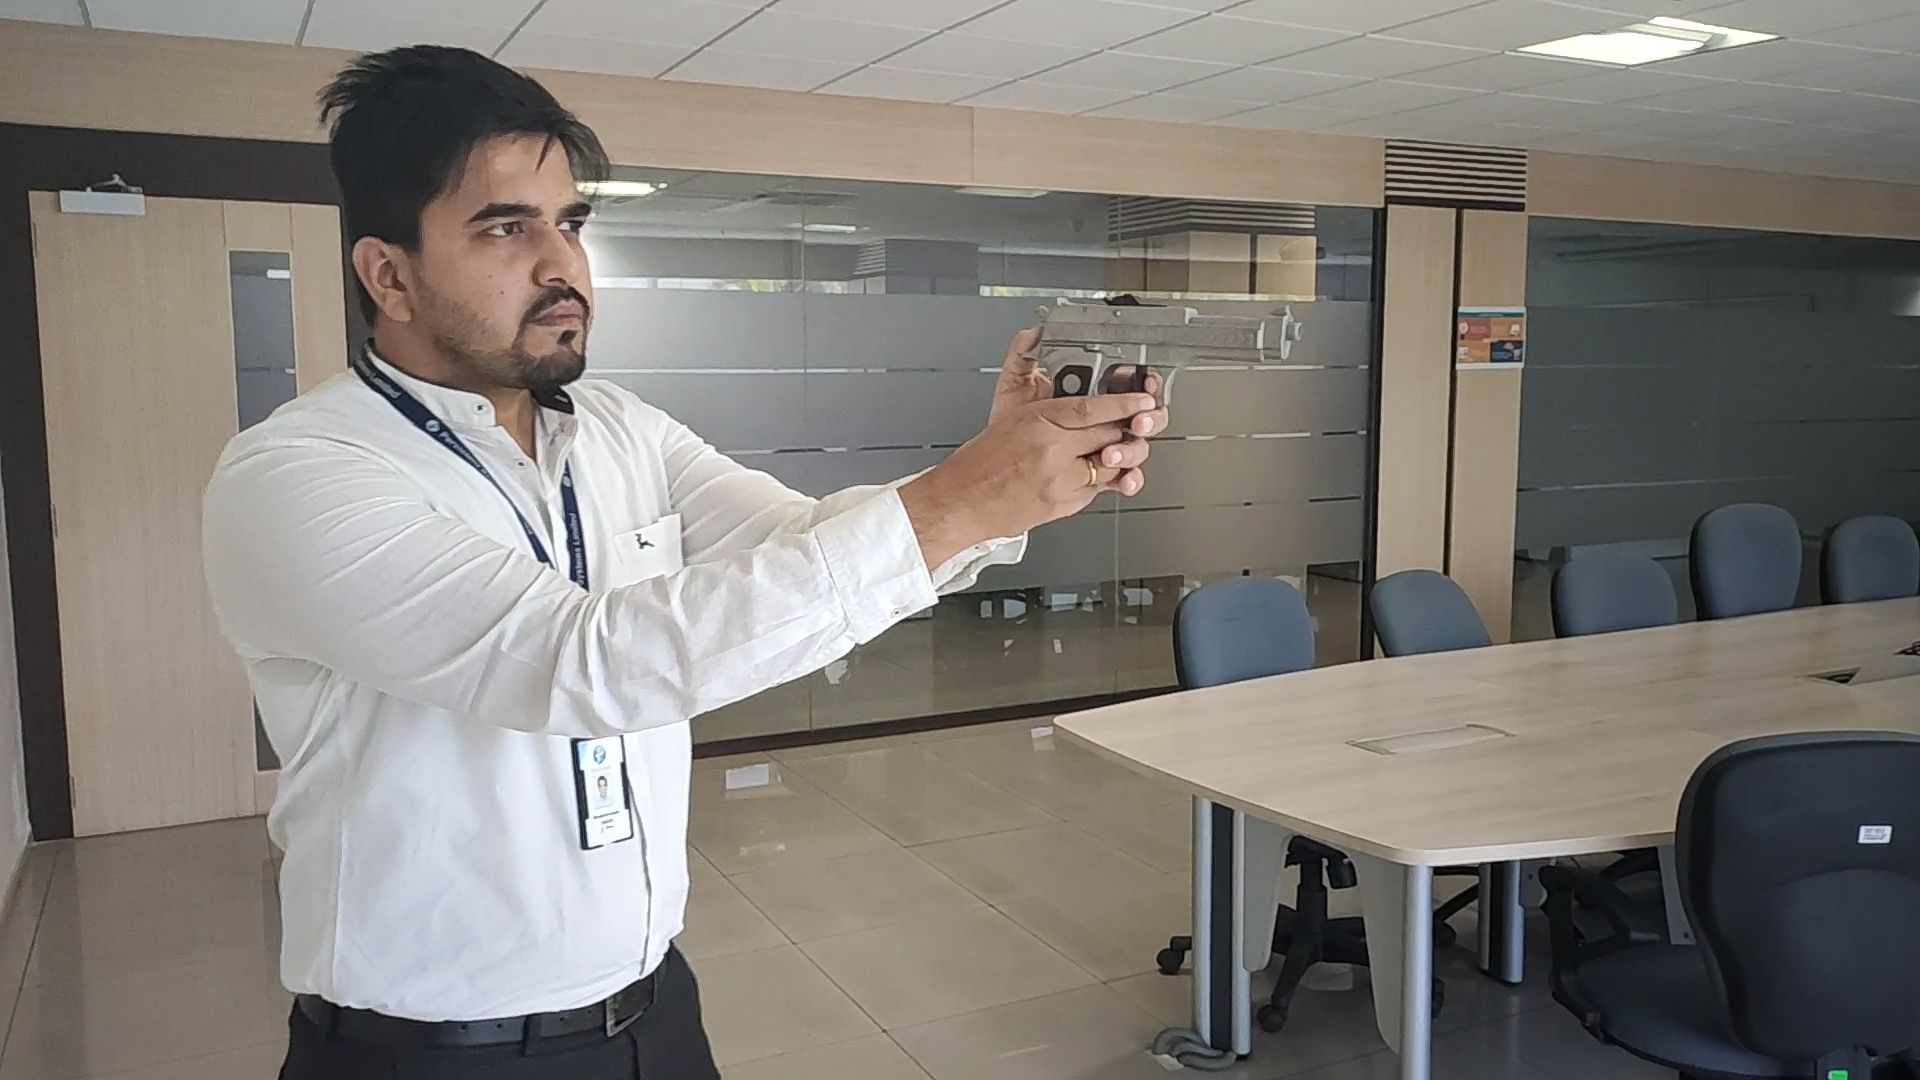gun: (1026, 287, 1299, 407)
